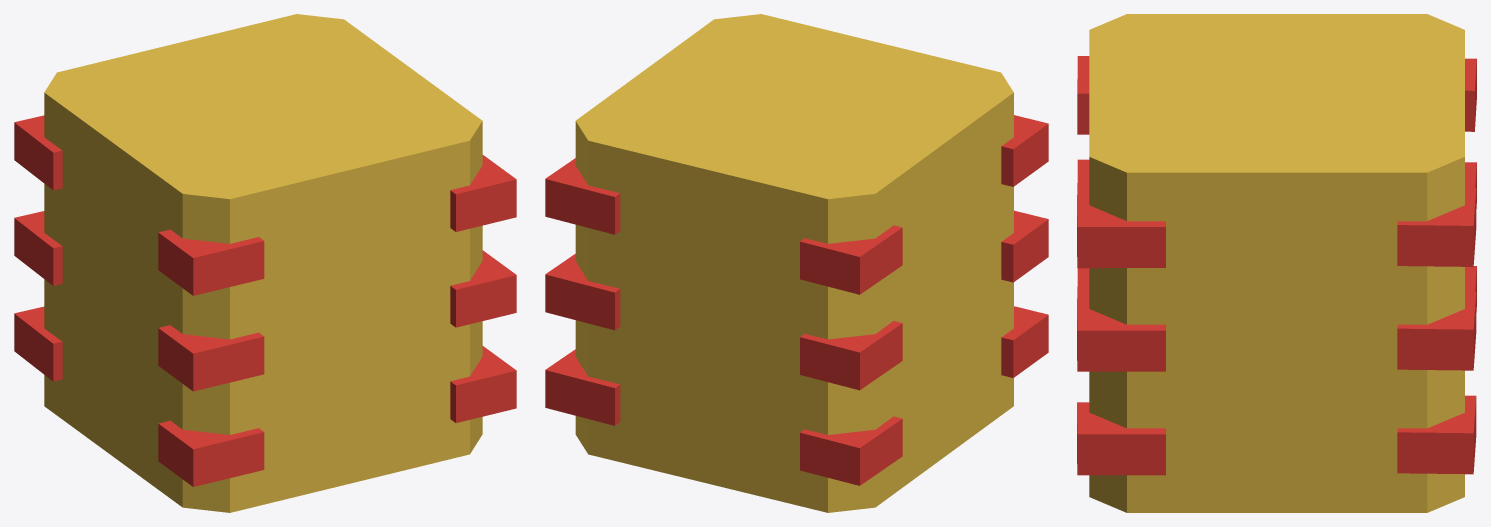
The model's file is 1Generic Center yellowred.fbx.
The picture shows the model from 3 angles, left to right: view 1: azimuth 30°, elevation 25°; view 2: azimuth 150°, elevation 25°; view 3: azimuth 270°, elevation 25°; orthographic projection. The views are drawn at different scales.
Visible parts, largest first — view 1: pCube16; view 2: pCube16; view 3: pCube16.
Part boxes in pixels (x1,y1,x2,y2): pCube16: [14, 14, 516, 512]; pCube16: [545, 14, 1048, 512]; pCube16: [1077, 14, 1476, 512].
Bounding box in the file's own units: 2.16 × 2 × 2.13.
